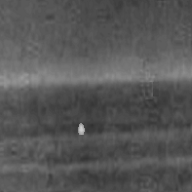Target: (76, 122, 85, 136)
